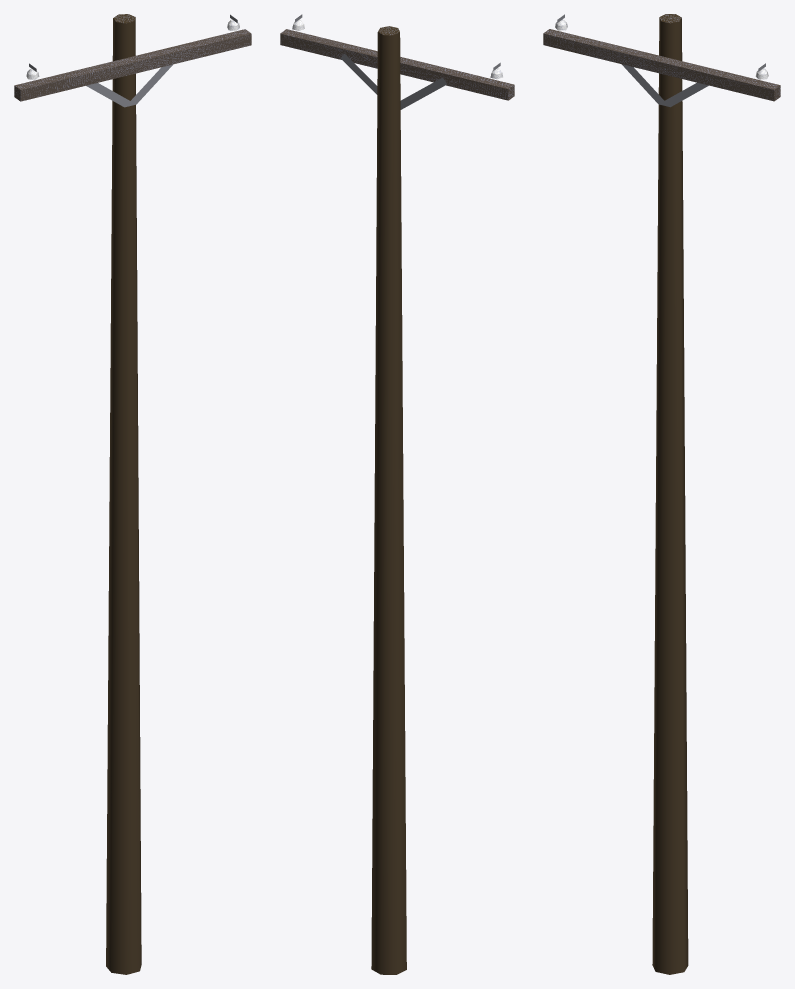
Rendered from DefaultPole.dae.
3 views of the same model, side by side, from view 1: azimuth 30°, elevation 25°; view 2: azimuth 150°, elevation 25°; view 3: azimuth 330°, elevation 25° (orthographic).
Parts seen in each view (by area): view 1: pole2, Electrical_Distribution5, brace_small; view 2: pole2, Electrical_Distribution5, brace_small; view 3: pole2, Electrical_Distribution5, brace_small.
Part boxes in pixels (left/top/right/bottom): pole2: left=106, top=14, right=141, bottom=974; Electrical_Distribution5: left=14, top=29, right=251, bottom=101; brace_small: left=86, top=64, right=172, bottom=107; pole2: left=371, top=26, right=406, bottom=974; Electrical_Distribution5: left=280, top=29, right=514, bottom=100; brace_small: left=340, top=53, right=447, bottom=109; pole2: left=652, top=14, right=688, bottom=974; Electrical_Distribution5: left=543, top=29, right=780, bottom=101; brace_small: left=622, top=64, right=708, bottom=107.
Size of the model in its own units: 107 by 17.44 by 418.
